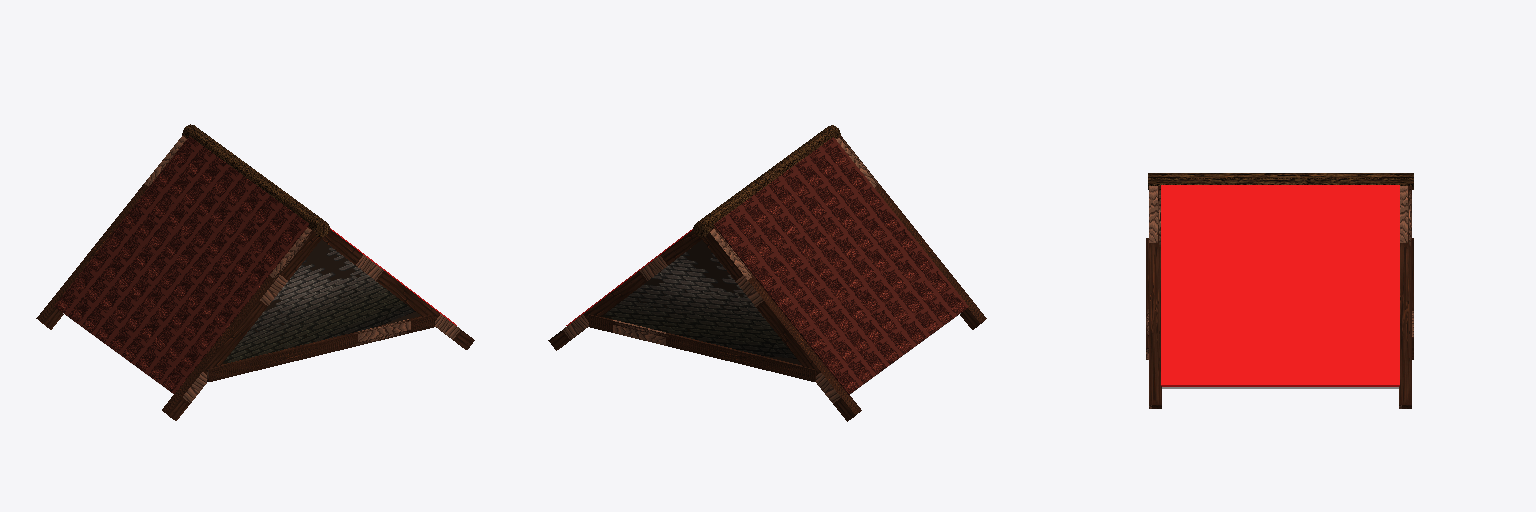
3 renders of one model, left to right at view 1: azimuth 30°, elevation 25°; view 2: azimuth 150°, elevation 25°; view 3: azimuth 270°, elevation 25°, orthographic.
Visible parts, largest first — view 1: Cube-Merged; view 2: Cube-Merged; view 3: Cube-Merged.
Boxes of the visible parts, x1,y1,x2,y2 form: Cube-Merged: [36, 124, 474, 420]; Cube-Merged: [548, 125, 986, 421]; Cube-Merged: [1146, 173, 1413, 408].
Bounding box in the file's own units: 13.24 × 6.79 × 10.
Materials: 7 (4 with a texture image).